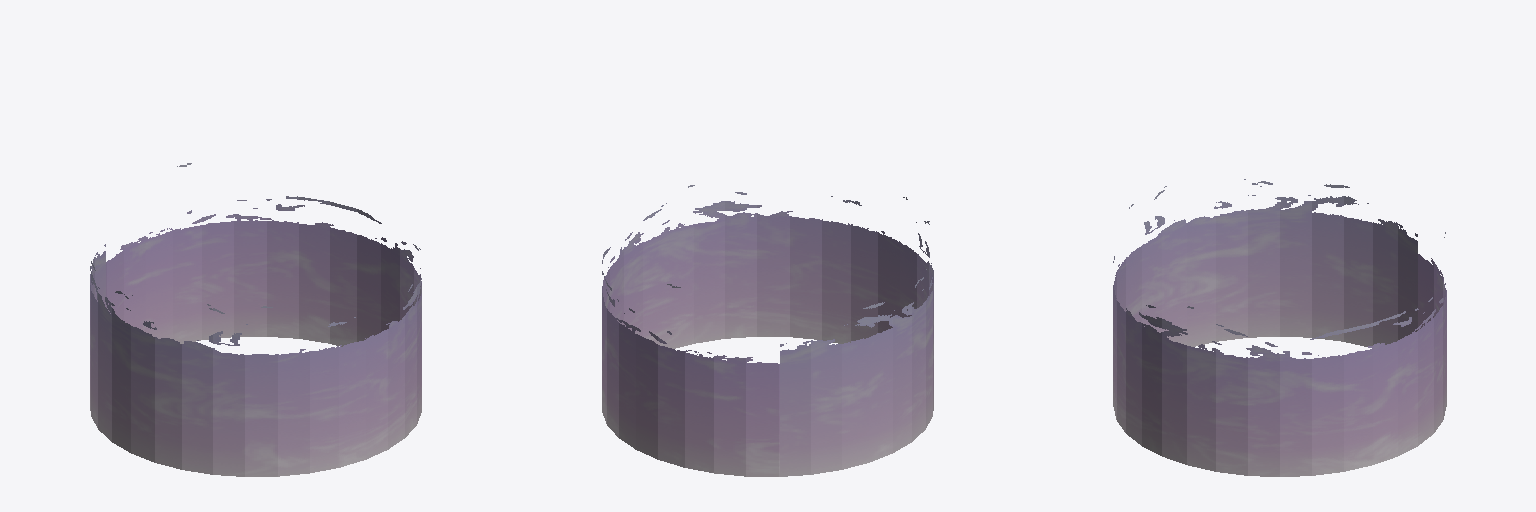
3 views of the same model, side by side, from view 1: azimuth 30°, elevation 25°; view 2: azimuth 150°, elevation 25°; view 3: azimuth 270°, elevation 25° (orthographic).
Visible parts, largest first — view 1: 円柱.003; view 2: 円柱.003; view 3: 円柱.003.
Part boxes in pixels (x1,y1,x2,y2): 円柱.003: (90, 163, 421, 476); 円柱.003: (602, 185, 933, 476); 円柱.003: (1113, 179, 1446, 476).
Bounding box in the file's own units: 99.45 × 99.45 × 99.45.
Materials: 1 (1 with a texture image).